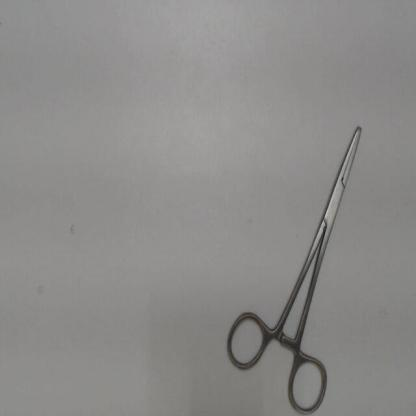Mayo Needle Holder: (220, 113, 374, 414)
